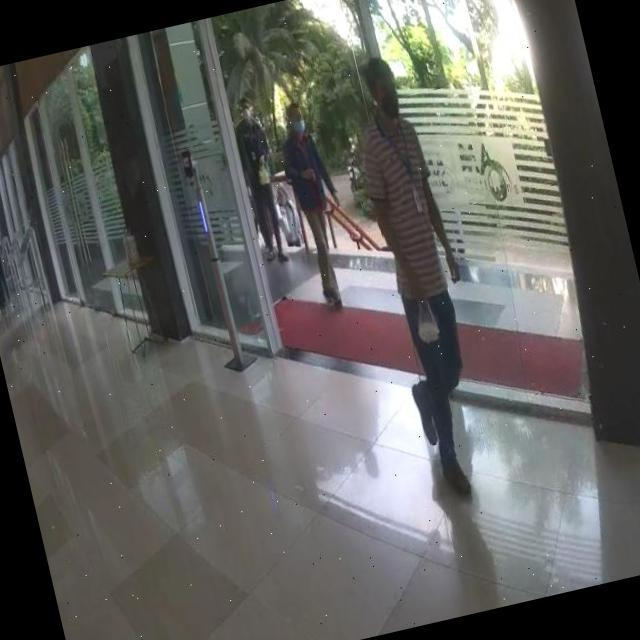person: (334, 49, 509, 507), (274, 100, 356, 310), (228, 95, 294, 268)
